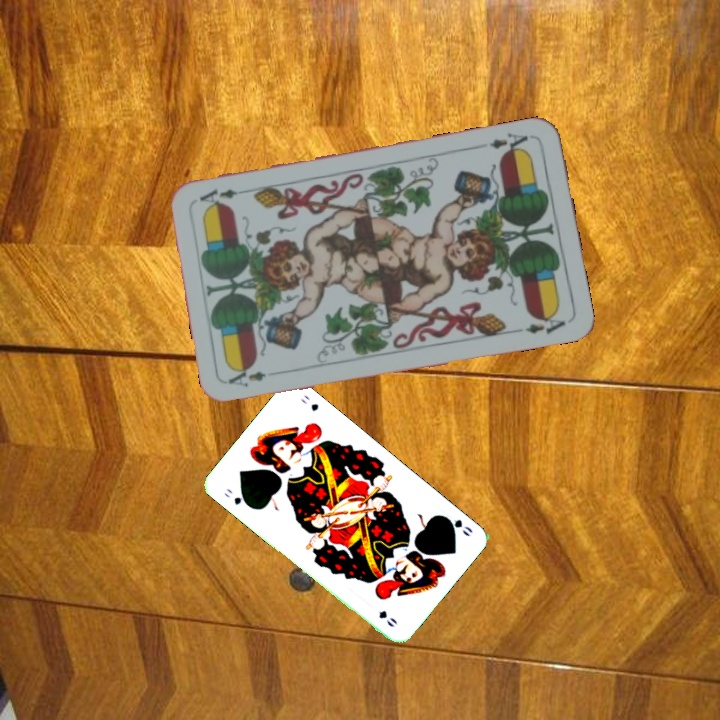EA: (485, 128, 531, 157), (224, 364, 268, 390)
GO: (438, 511, 475, 539), (220, 484, 253, 510)
